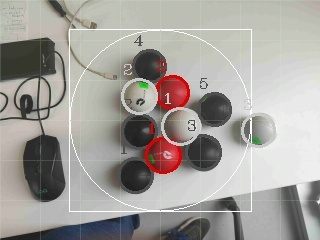Pelota blanca: (3, 37, 67, 120), (161, 107, 202, 144), (119, 77, 159, 114), (239, 111, 276, 148)
Pelota negra: (21, 133, 67, 202), (187, 133, 222, 172), (119, 157, 154, 195), (133, 47, 169, 82), (121, 113, 156, 148), (197, 91, 232, 126)
Pelota roja: (143, 135, 182, 174), (155, 73, 190, 111)
